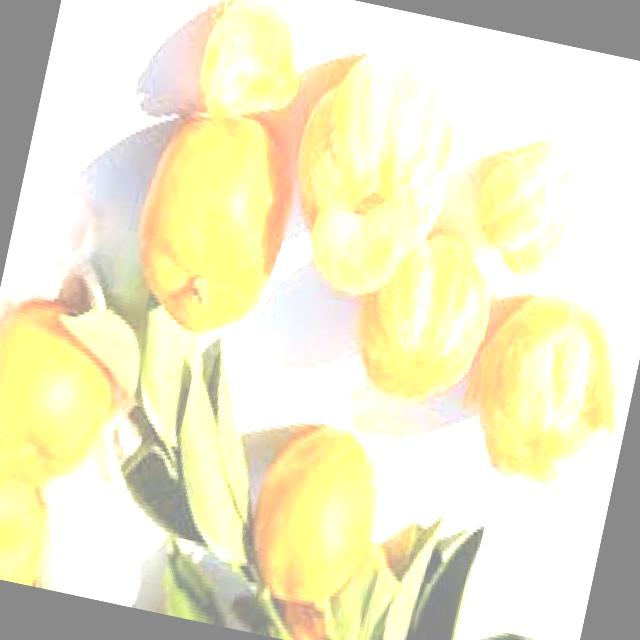Orange: (269, 43, 472, 311), (117, 101, 306, 349), (451, 282, 639, 500), (341, 218, 504, 418), (232, 416, 390, 618), (0, 289, 127, 500), (456, 129, 592, 290), (189, 0, 314, 134), (0, 466, 58, 587)
